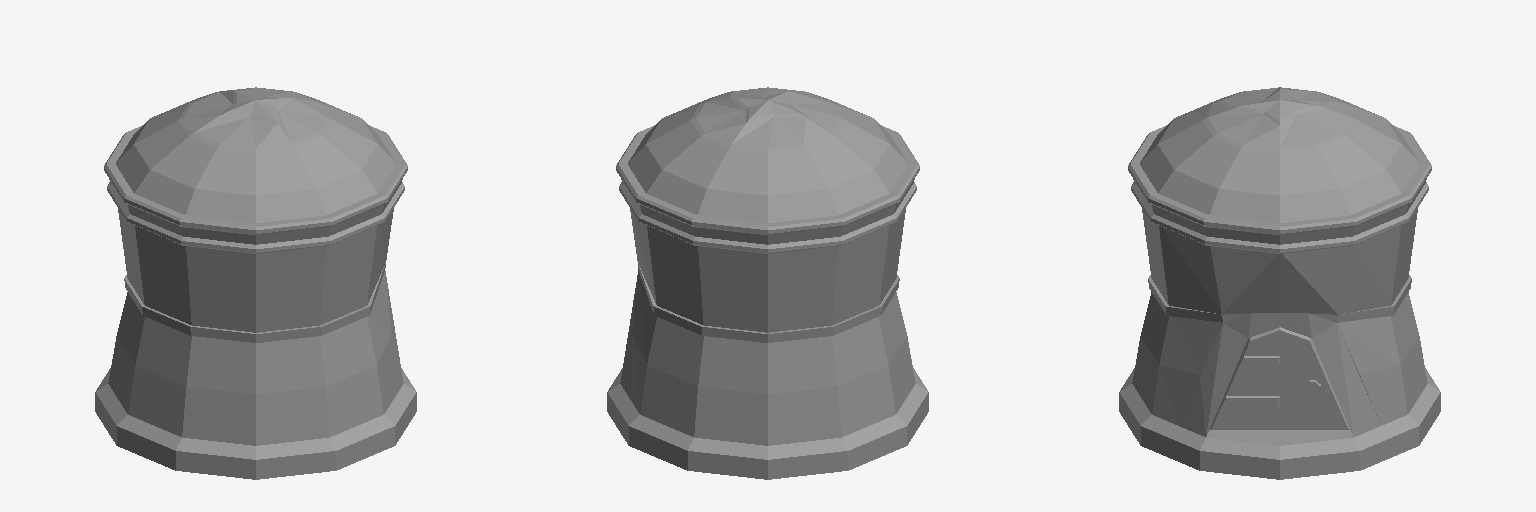
The model's file is houseremastered.obj.
3 renders of one model, left to right at view 1: azimuth 30°, elevation 25°; view 2: azimuth 150°, elevation 25°; view 3: azimuth 270°, elevation 25°, orthographic.
Visible parts, largest first — view 1: houseremastered; view 2: houseremastered; view 3: houseremastered.
Part boxes in pixels (bbox=[...]): houseremastered: bbox=[95, 87, 416, 479]; houseremastered: bbox=[607, 87, 928, 479]; houseremastered: bbox=[1119, 87, 1440, 479].
Size of the model in its own units: 3.05 by 3.26 by 3.05.